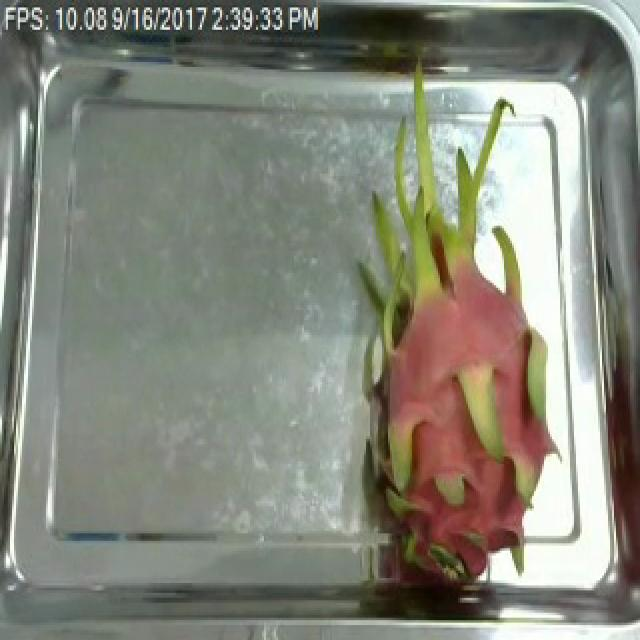fruit: (312, 173, 602, 602)
